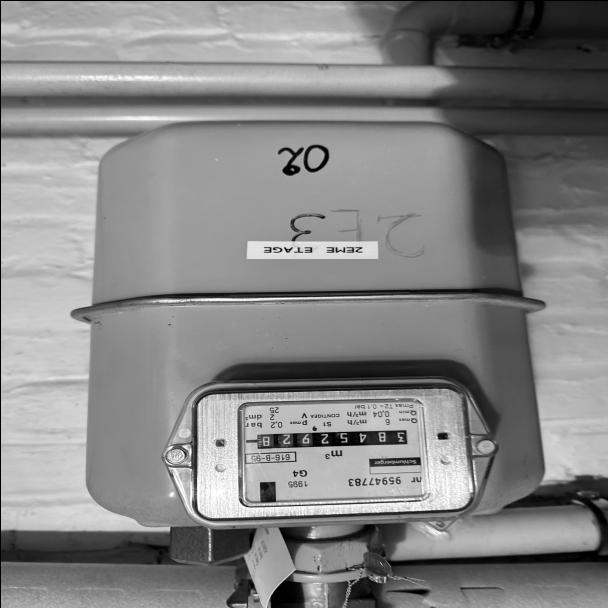2: (274, 431, 294, 448), (314, 429, 334, 444)
3: (392, 428, 407, 444)
4: (351, 428, 369, 445)
5: (334, 429, 351, 445)
8: (371, 428, 390, 444), (254, 433, 273, 449)
9: (294, 430, 312, 446)
cm: (252, 428, 310, 450)
counter: (307, 428, 412, 444)
